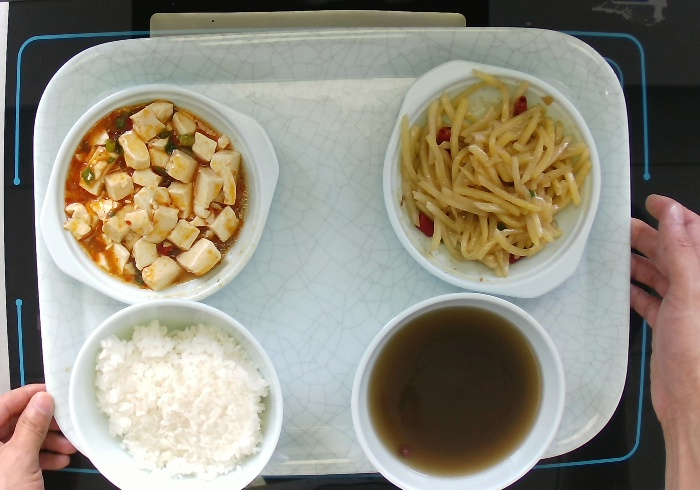JYsf-Fan_Wan: (348, 289, 568, 490), (67, 297, 285, 490)
JYsf-Shuang_Er_Pan: (37, 81, 281, 306), (381, 57, 603, 300)
